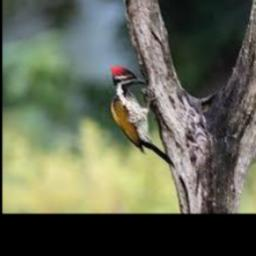Woodpecker: (111, 67, 175, 166)
